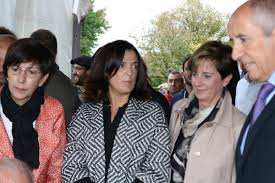person: (77, 36, 166, 160), (174, 37, 241, 172), (1, 39, 64, 159)
